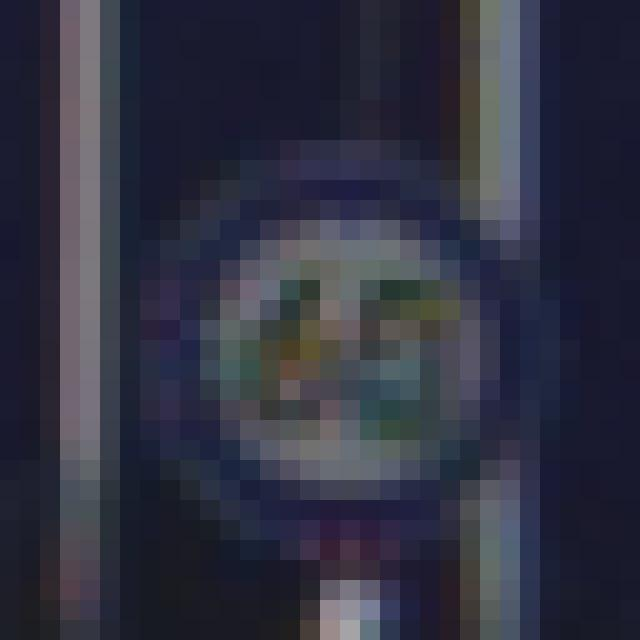SPEED-LIMIT-60: (140, 138, 570, 576)
